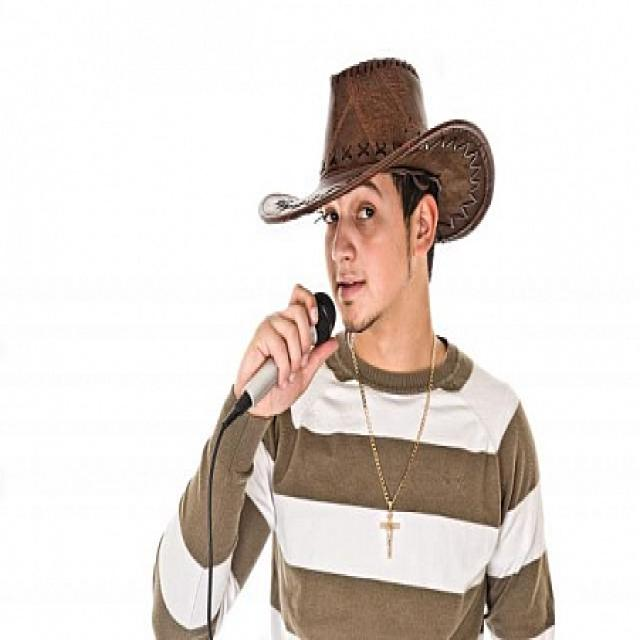Eyes: (315, 197, 382, 230)
